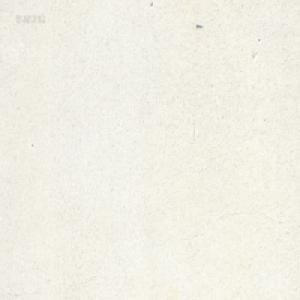Nail: (196, 23, 202, 28)
